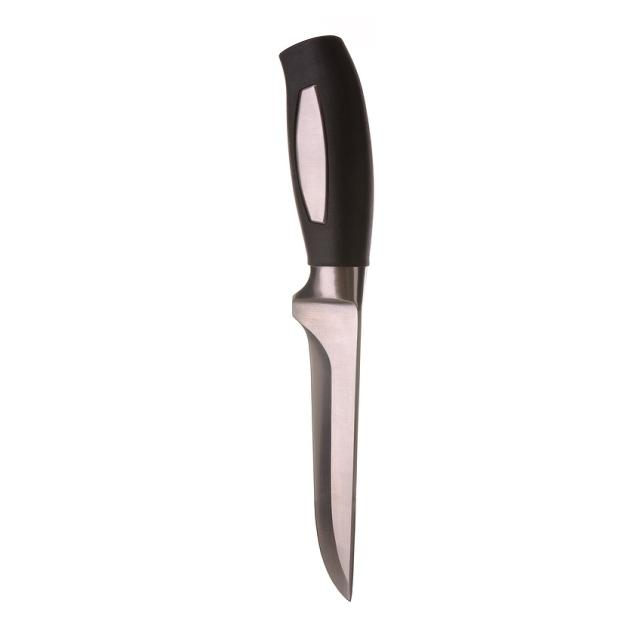Knife: (281, 36, 372, 600)
